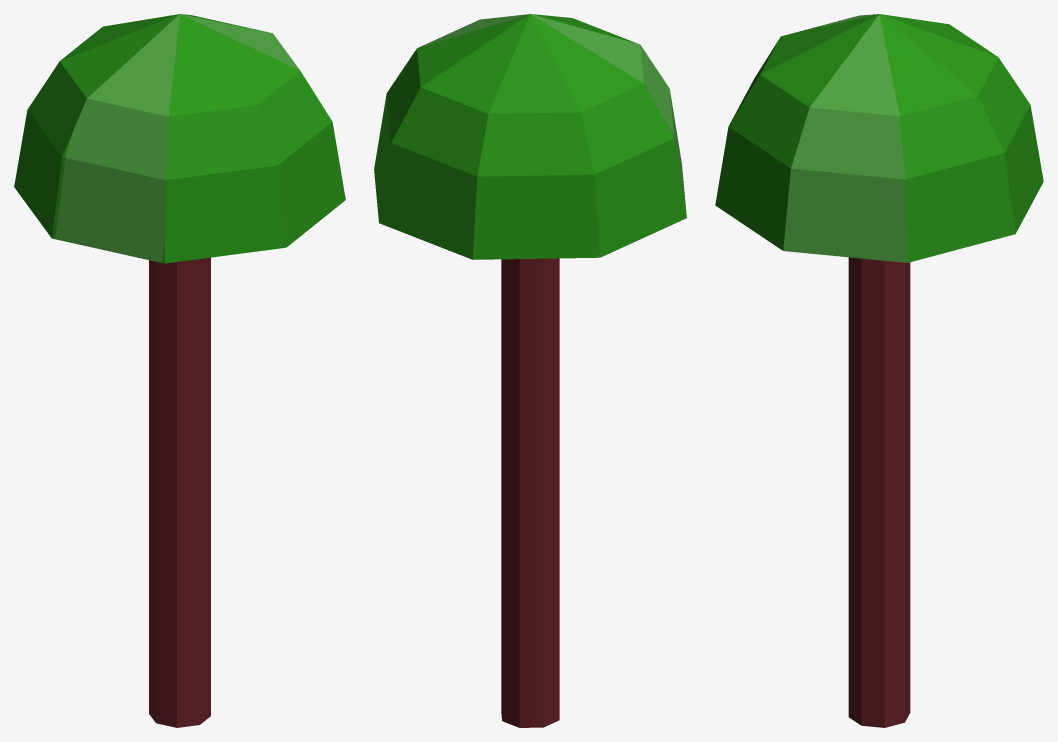
File: object2_tree2.fbx
The picture shows the model from 3 angles, left to right: view 1: azimuth 30°, elevation 25°; view 2: azimuth 150°, elevation 25°; view 3: azimuth 270°, elevation 25°; orthographic projection.
Visible parts, largest first — view 1: Cylinder; view 2: Cylinder; view 3: Cylinder.
Part boxes in pixels (box(x1,y1,x2,y2)): Cylinder: box(14, 14, 345, 727); Cylinder: box(374, 14, 686, 727); Cylinder: box(715, 14, 1043, 727).
Bounding box in the file's own units: 342 × 804 × 342.
